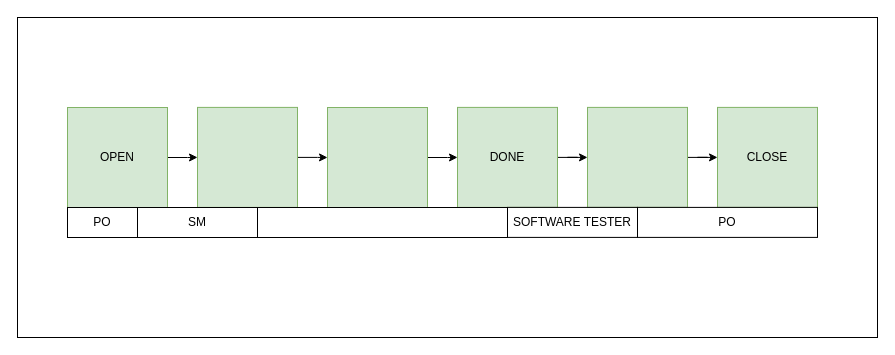
Some shapes in this 895 by 355 pixel diagram are drawn without their labels. The centre of each missing label's shape, as x and y in pixels:
"DOING" belongs at point 377,157.
"REVIEW" belongs at point 637,156.
"SCRUM TIM" belongs at point 382,222.
"TODO" belongs at point 247,156.
